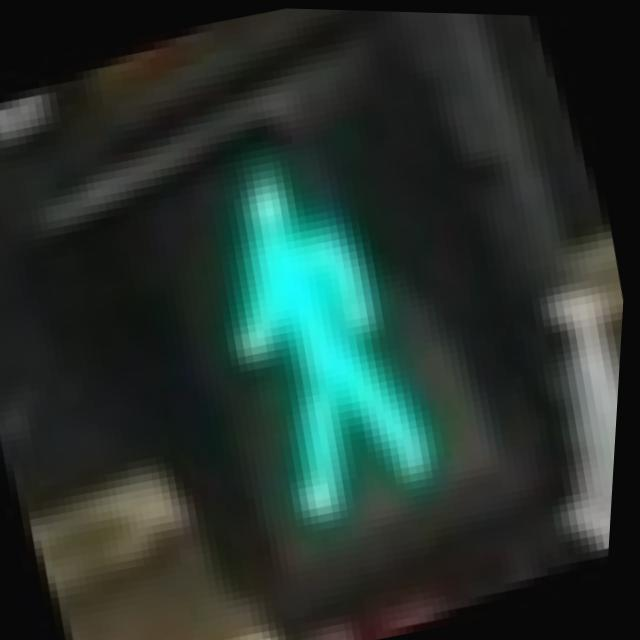green_light: (47, 27, 581, 603)
